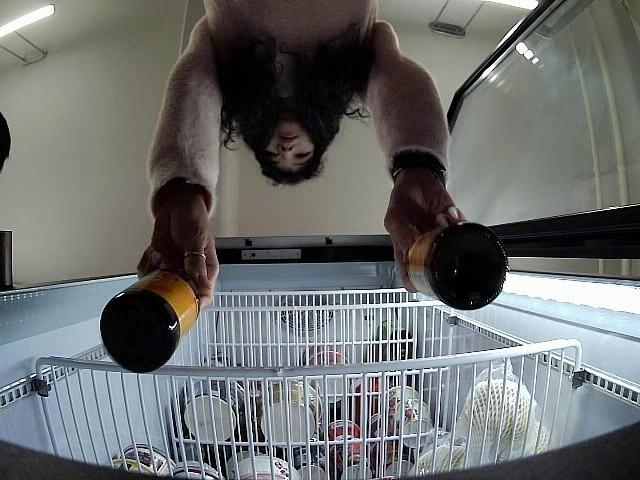17_vita500: (100, 270, 200, 372), (405, 222, 508, 311)
